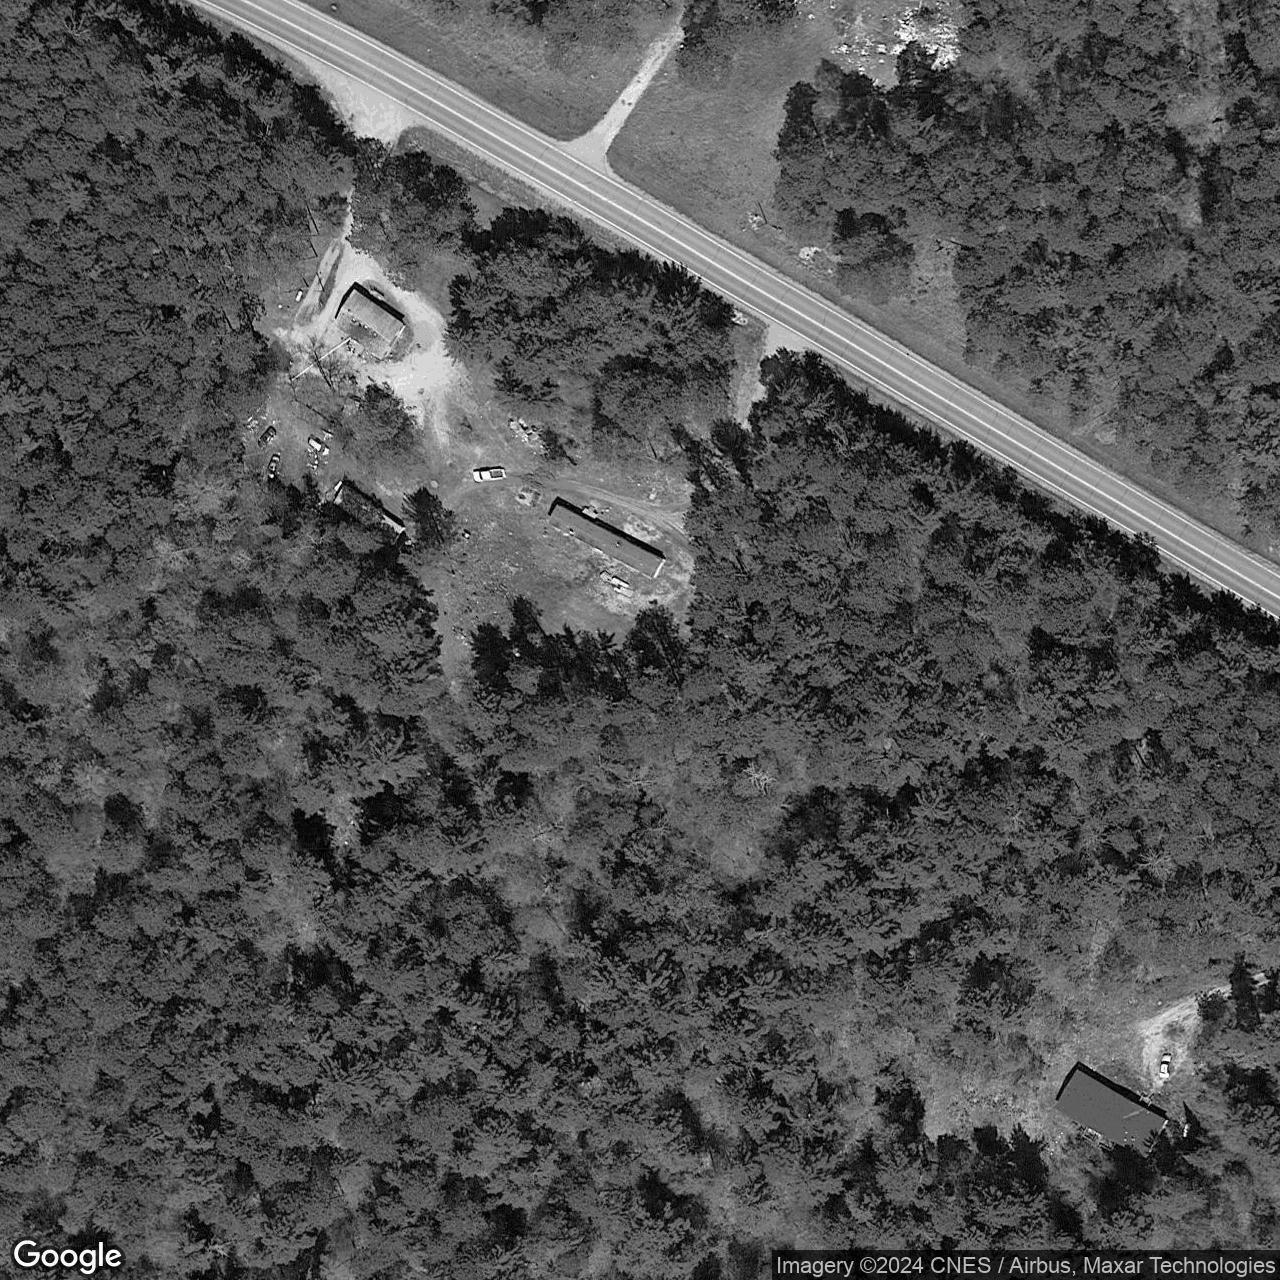House: (1054, 1067, 1171, 1162), (333, 287, 409, 361)
Propane: (1180, 1121, 1192, 1141), (332, 479, 343, 493), (293, 288, 304, 304)
Trailer: (546, 503, 667, 579), (333, 484, 407, 546)
